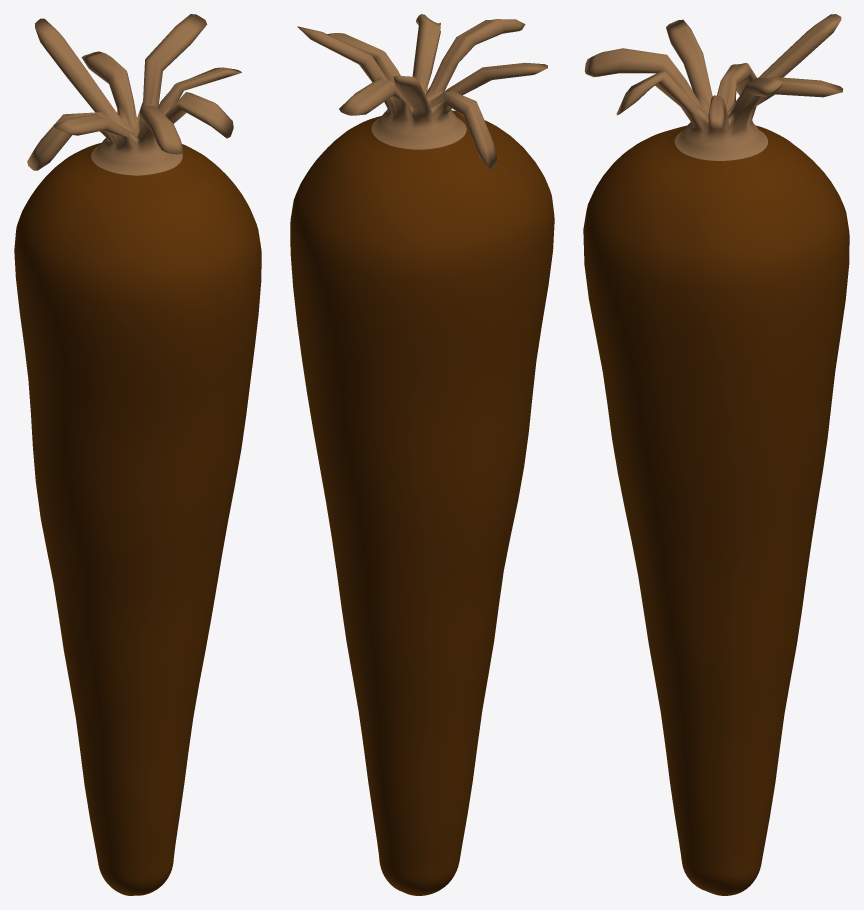
Rendered from DeadCarrot.fbx.
The picture shows the model from 3 angles, left to right: view 1: azimuth 30°, elevation 25°; view 2: azimuth 150°, elevation 25°; view 3: azimuth 270°, elevation 25°; orthographic projection. The views are drawn at different scales.
Visible parts, largest first — view 1: Sphere; view 2: Sphere; view 3: Sphere.
Boxes of the visible parts, x1,y1,x2,y2 form: Sphere: (14,14,261,895); Sphere: (290,14,554,895); Sphere: (583,14,849,895).
Bounding box in the file's own units: 296 × 1097 × 309.
